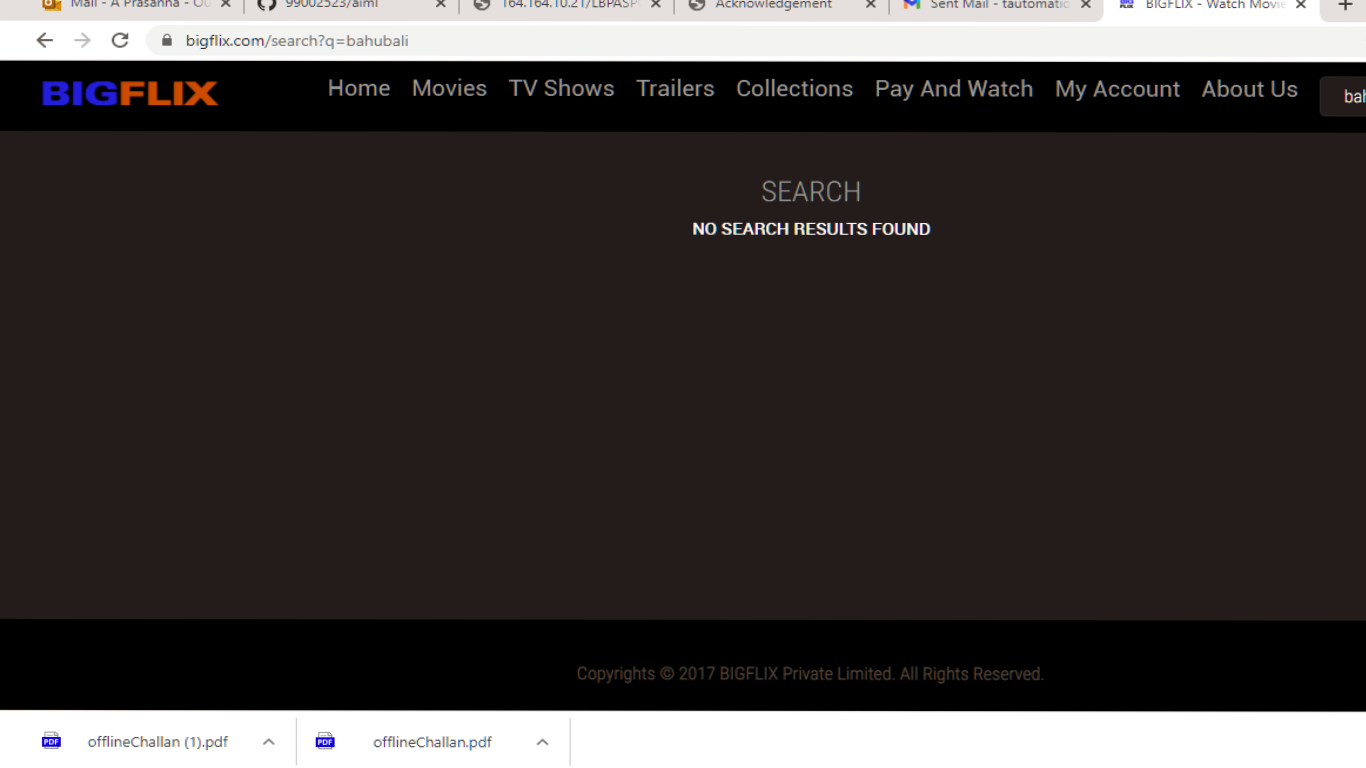myaccountbutton: (1046, 67, 1190, 118)
noresultsfound: (660, 151, 946, 260)
searchtextbox: (1315, 72, 1366, 116)
